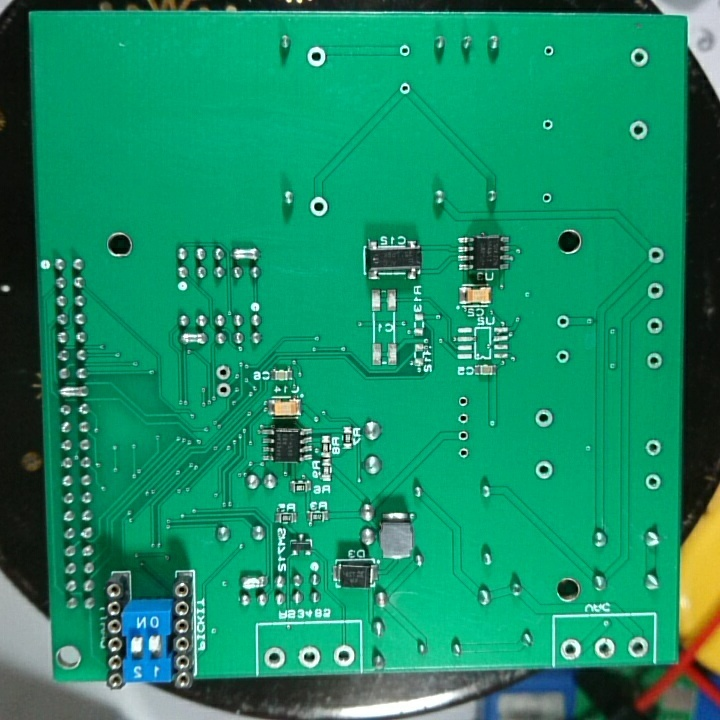F: (296, 643, 324, 669), (330, 643, 356, 669), (261, 645, 288, 670), (532, 458, 558, 483), (627, 634, 651, 661), (307, 195, 332, 220), (627, 46, 652, 70), (593, 637, 618, 661), (627, 117, 650, 143), (304, 45, 328, 69), (558, 638, 582, 662), (533, 407, 558, 429), (643, 470, 666, 493), (646, 244, 668, 266), (644, 280, 666, 302), (643, 437, 664, 460), (553, 347, 575, 368), (213, 380, 234, 402), (644, 315, 664, 337), (644, 351, 664, 373), (213, 363, 235, 382), (539, 189, 558, 207), (397, 78, 414, 98), (455, 428, 474, 445), (398, 42, 415, 60), (540, 116, 556, 135), (554, 312, 570, 330), (540, 43, 557, 59), (455, 445, 470, 463), (456, 392, 471, 409), (455, 410, 470, 425)
P: (237, 572, 270, 592), (56, 383, 90, 401), (178, 331, 210, 349), (231, 246, 262, 264)
